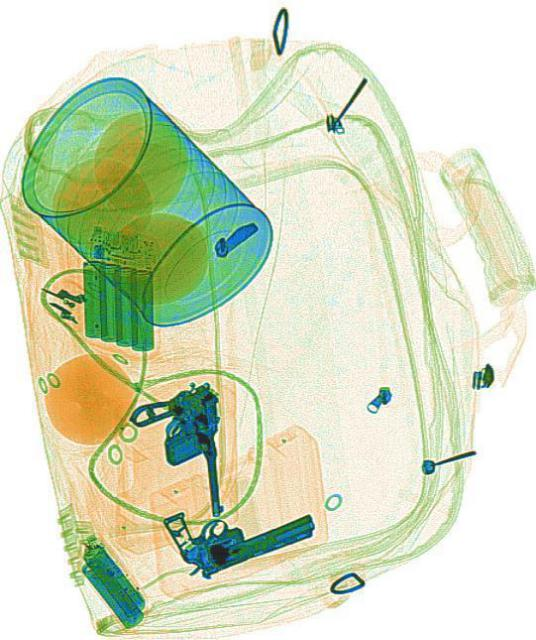Gun: (155, 458, 317, 592), (125, 373, 250, 533)
